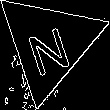N_N: (23, 13, 75, 75)
